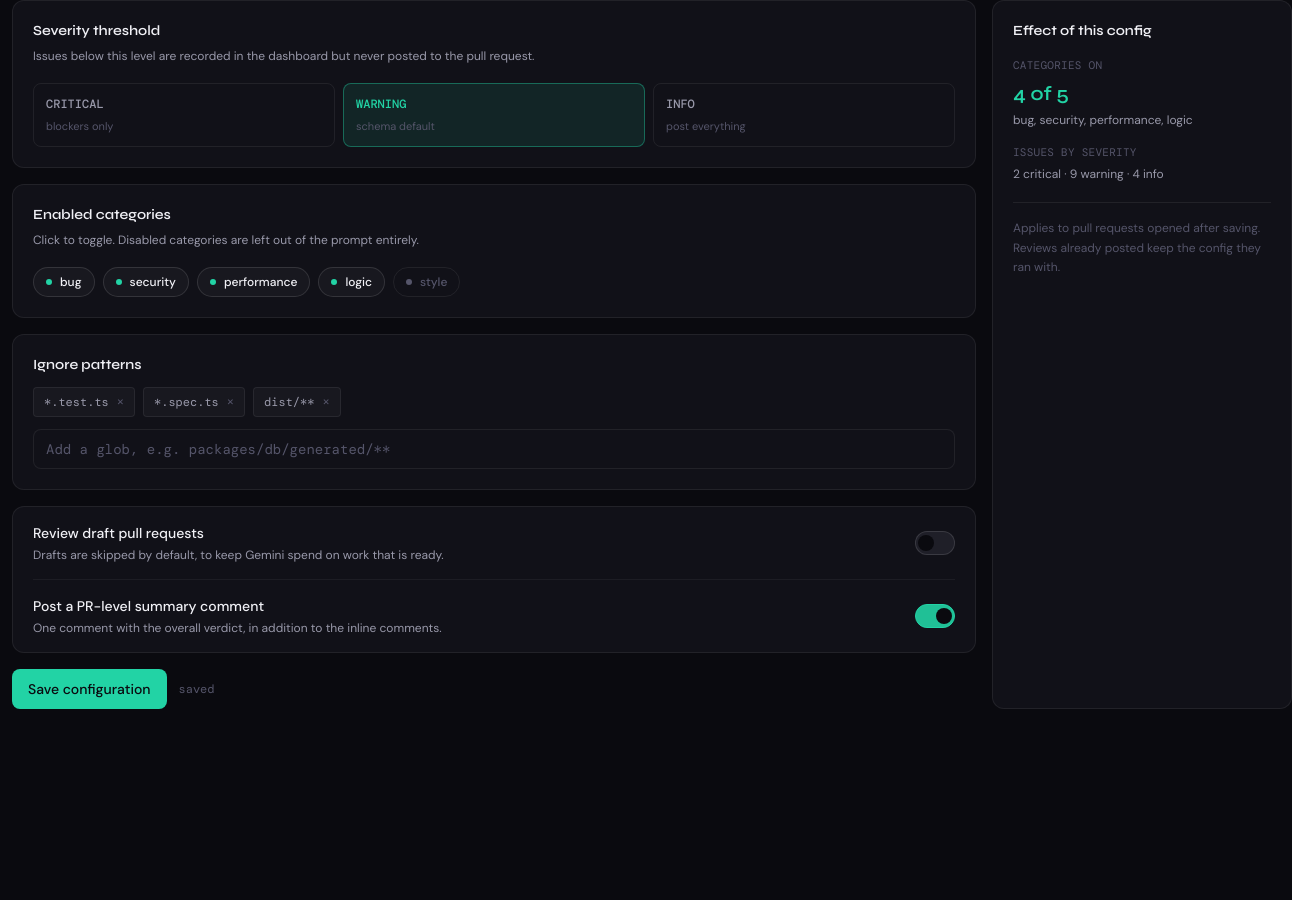
RepoConfigPanel › shows 'unsaved changes' while the form is dirty
Expected: the text "WARNING" is shown, [356, 96, 406, 112]
Expected: the text "saved" is shown, [178, 680, 214, 696]
Click the text "CRITICAL".
click(75, 104)  # box [46, 96, 104, 112]
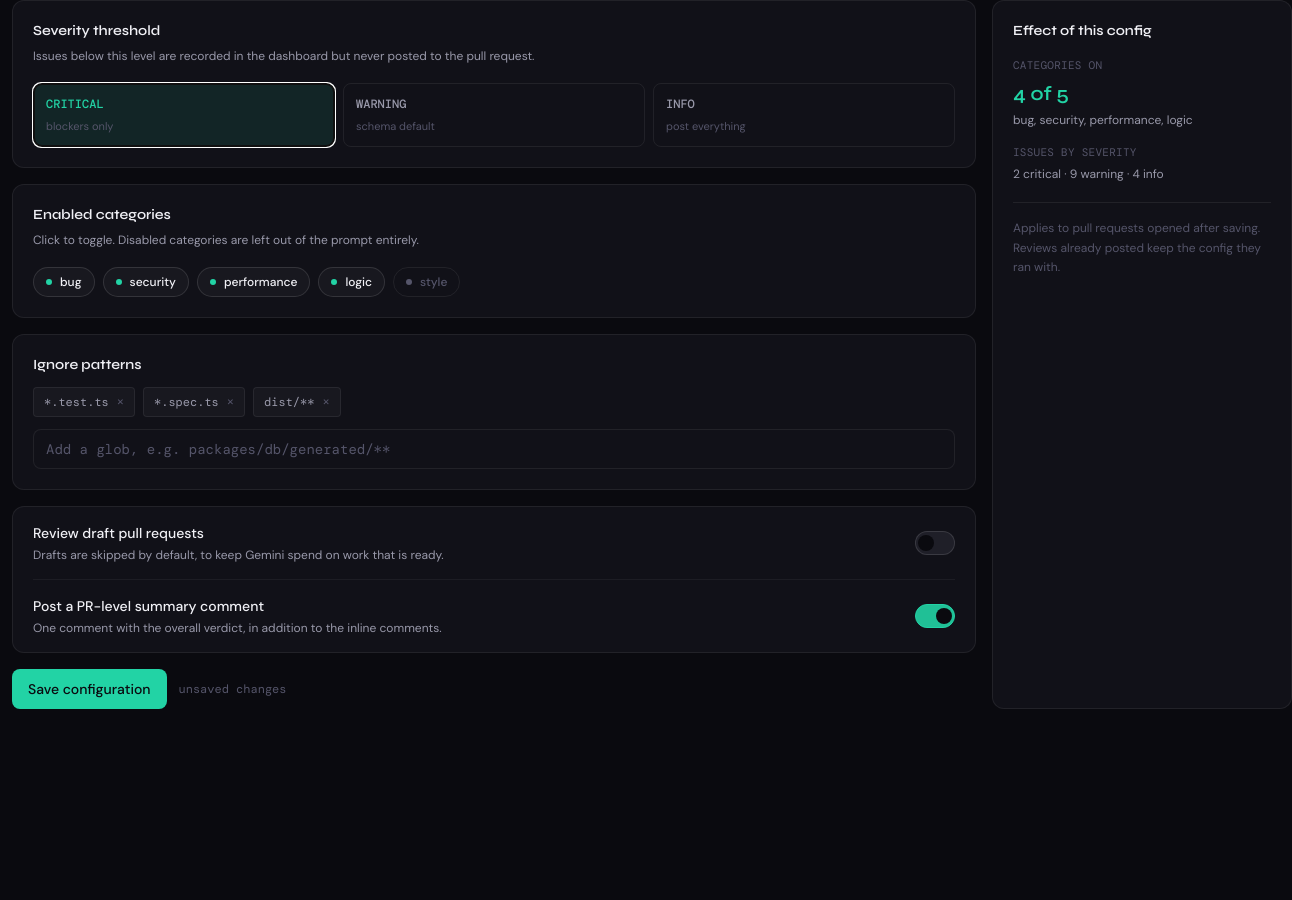
Expected: the text "unsaved changes" is shown, [178, 680, 286, 696]
